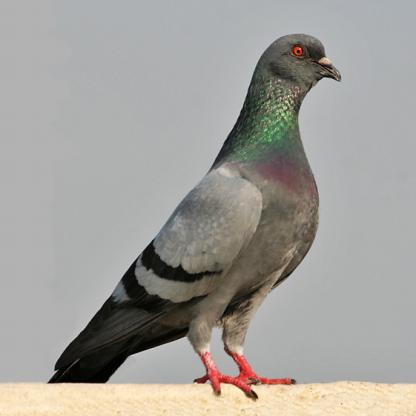Rock Pigeon: (27, 25, 349, 384)
